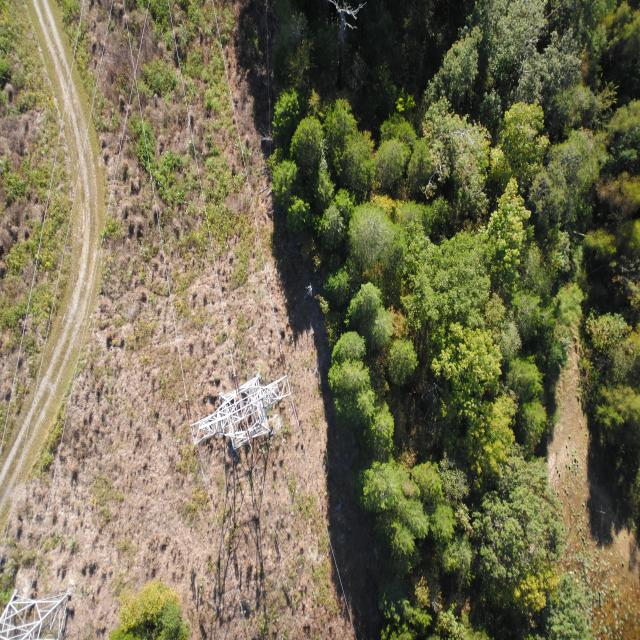Area of Interest: (270, 11, 640, 634)
